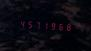eight: (65, 21, 72, 32)
five: (25, 18, 32, 30)
four: (17, 18, 24, 29)
nine: (49, 20, 56, 31)
one: (41, 19, 48, 31)
seven: (33, 19, 40, 30)
six: (57, 20, 64, 32)
